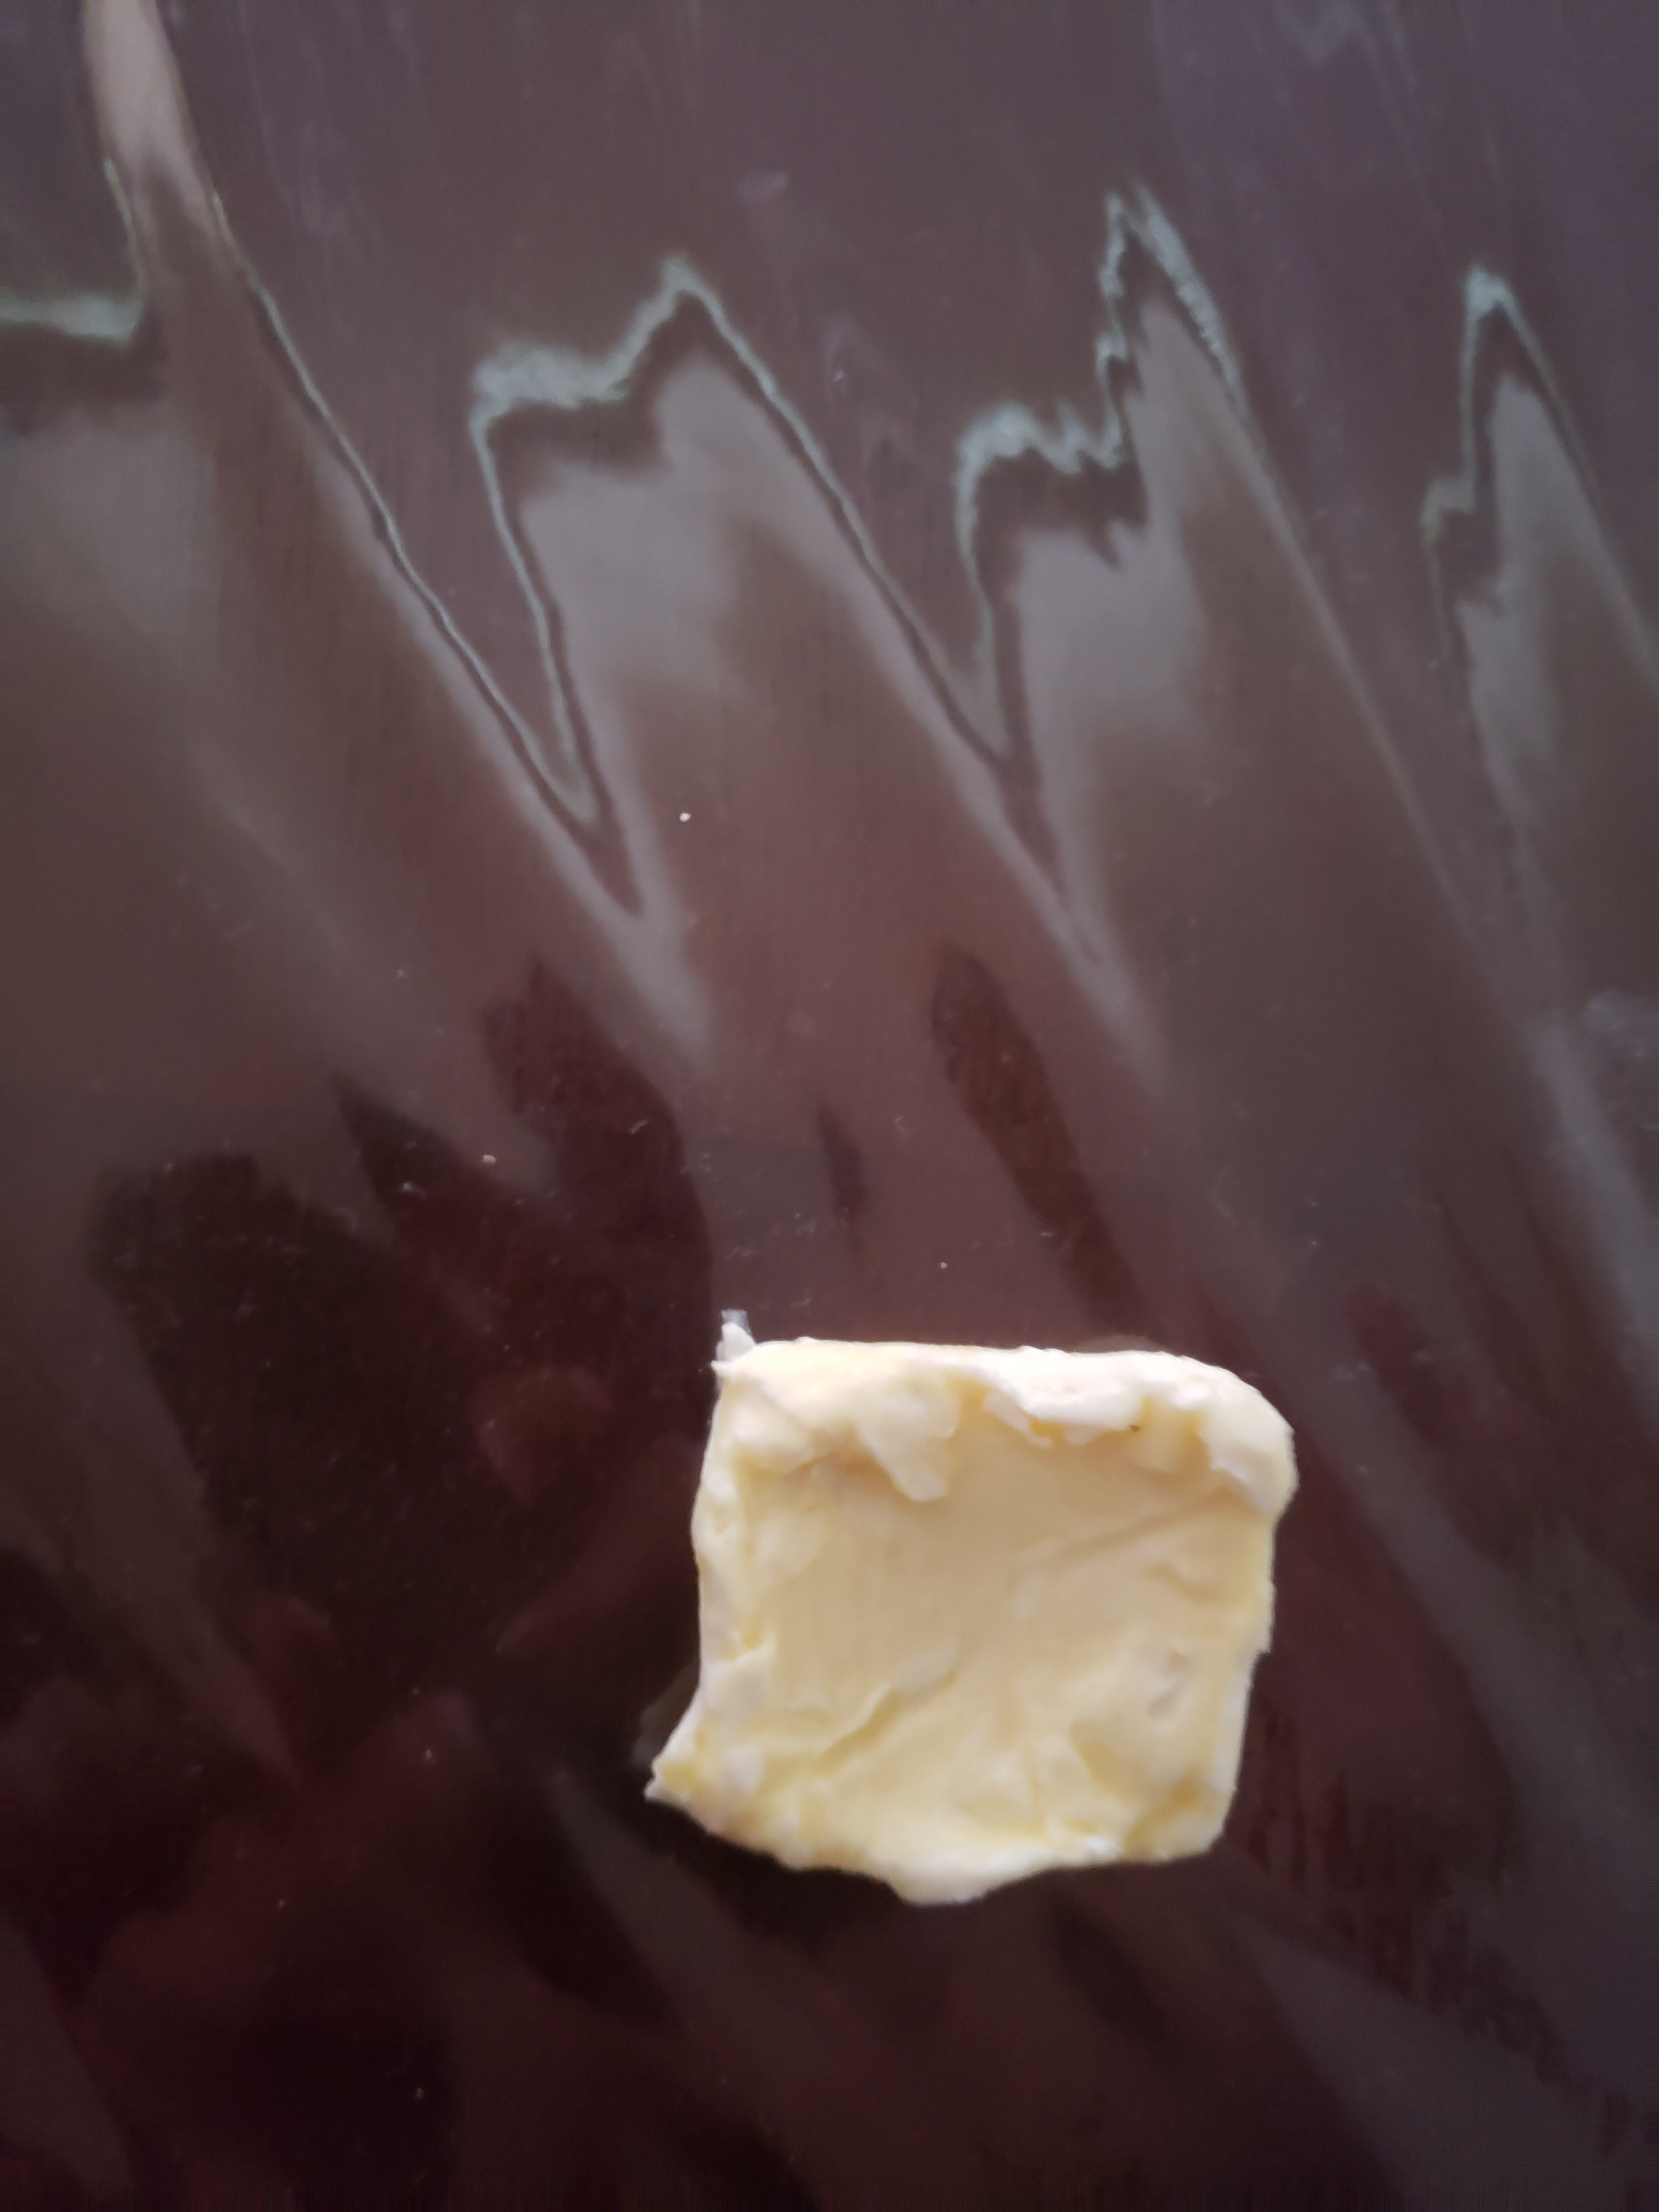Butter: (648, 1332, 1300, 1895)
